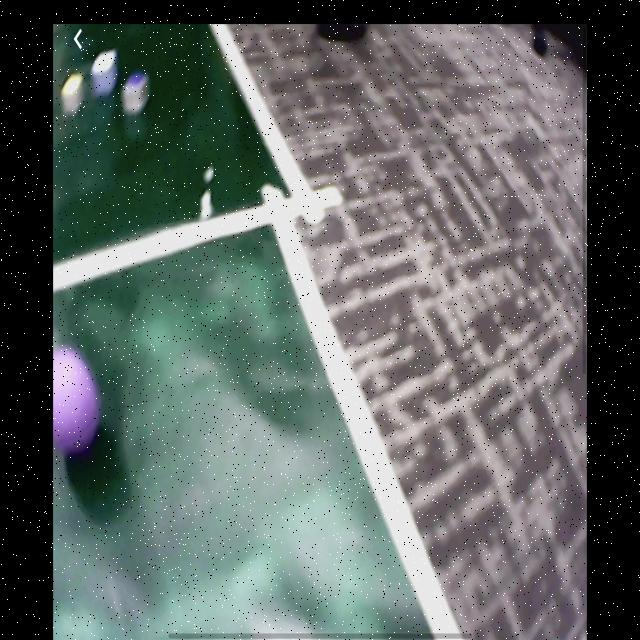ball: (54, 346, 101, 468)
